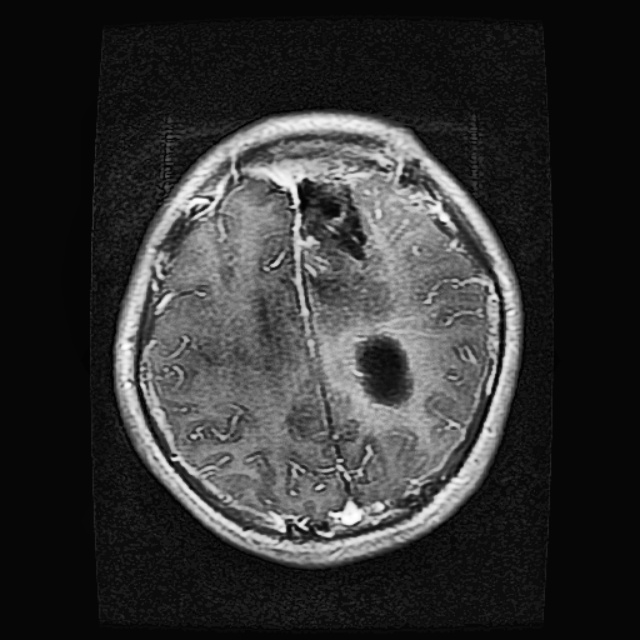Glioma: (352, 332, 412, 408)
